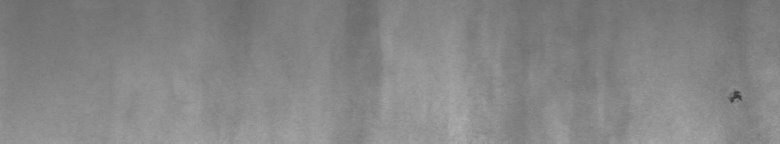fi: (726, 84, 746, 109)
